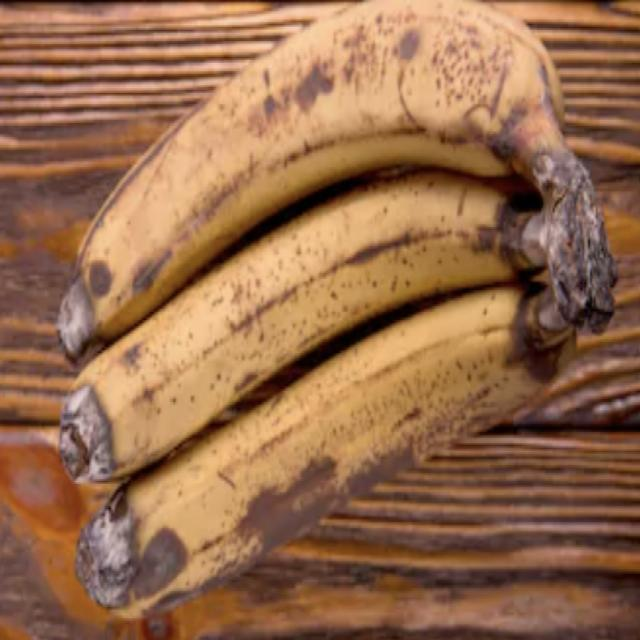rotten-banana: (63, 1, 612, 350), (78, 278, 582, 622), (59, 172, 616, 463)
